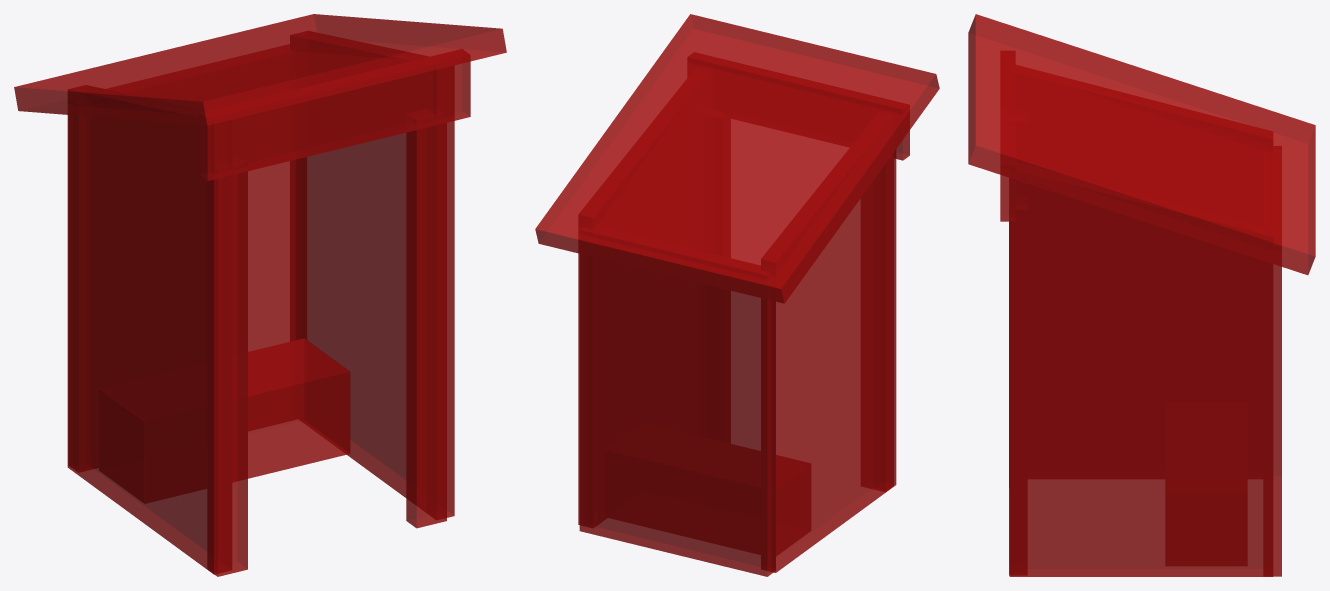
Rendered from SM_Bld_Outhouse_01_Collision.fbx.
3 views of the same model, side by side, from view 1: azimuth 30°, elevation 25°; view 2: azimuth 150°, elevation 25°; view 3: azimuth 270°, elevation 25° (orthographic). The views are drawn at different scales.
Parts seen in each view (by area): view 1: SM_Bld_Outhouse_01_Collision; view 2: SM_Bld_Outhouse_01_Collision; view 3: SM_Bld_Outhouse_01_Collision.
Part boxes in pixels (left/top/right/bottom): SM_Bld_Outhouse_01_Collision: left=14, top=14, right=506, bottom=576; SM_Bld_Outhouse_01_Collision: left=535, top=14, right=939, bottom=576; SM_Bld_Outhouse_01_Collision: left=968, top=14, right=1315, bottom=576.
Bounding box in the file's own units: 183 × 291 × 205.
